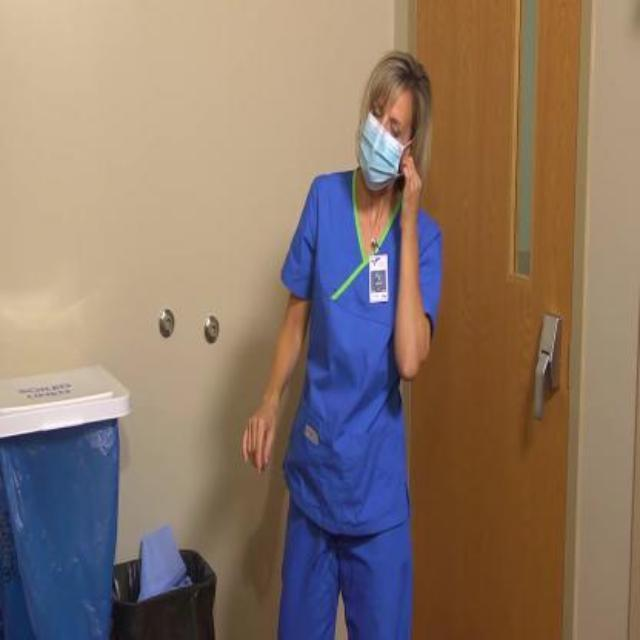bare_hand: (240, 386, 287, 474), (389, 143, 435, 229)
